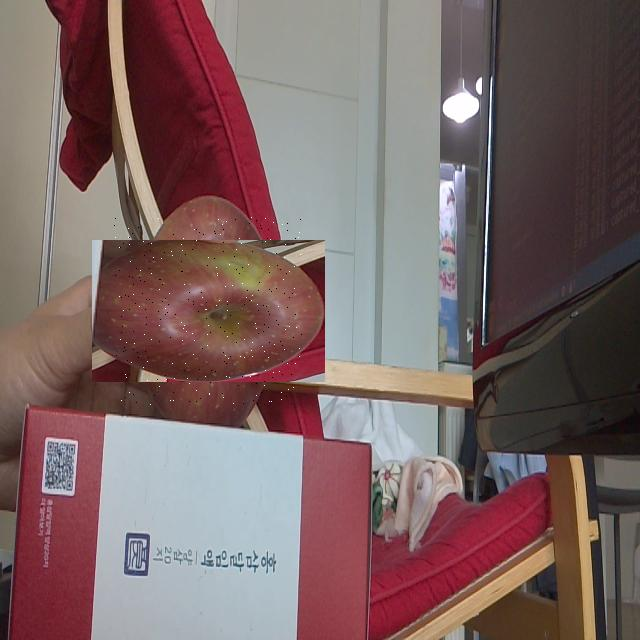apple: (114, 217, 302, 405)
